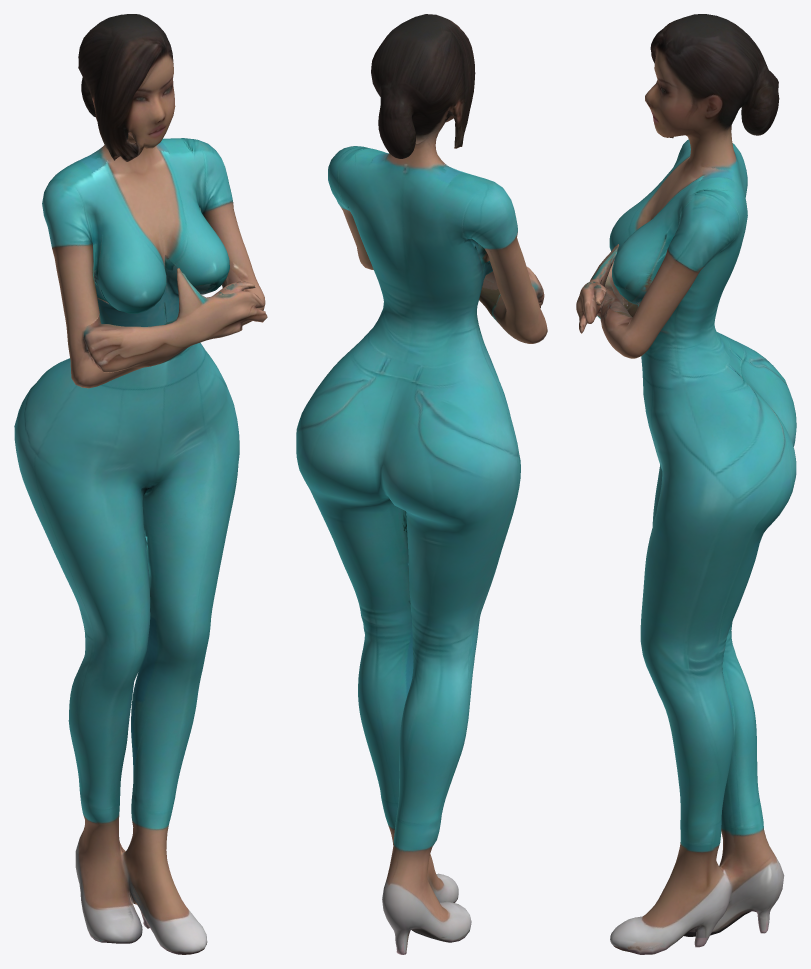
Rendered from nurse.glb.
3 renders of one model, left to right at view 1: azimuth 30°, elevation 25°; view 2: azimuth 150°, elevation 25°; view 3: azimuth 270°, elevation 25°, orthographic.
Parts seen in each view (by area): view 1: Object_4; view 2: Object_4; view 3: Object_4.
Part boxes in pixels (x1,y1,x2,y2): Object_4: (14,14,267,954); Object_4: (296,14,547,954); Object_4: (576,14,796,954).
Bounding box in the file's own units: 0.4699 × 2 × 0.4339.
1 material, 1 textured.
